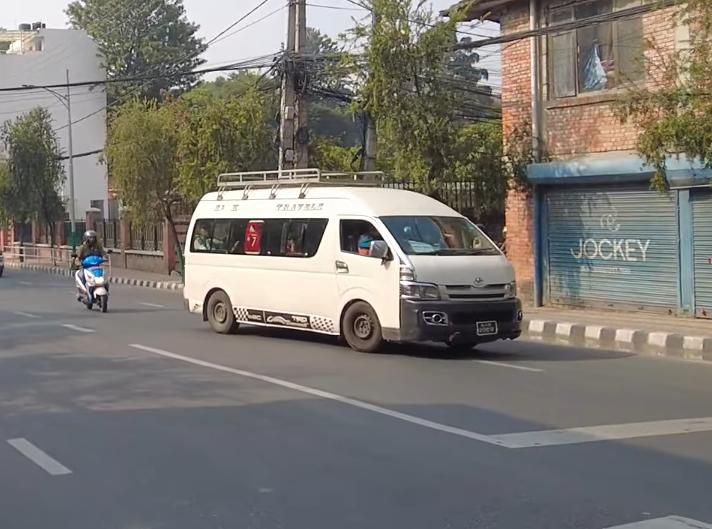micro_bus: (185, 171, 528, 362)
scooter: (72, 248, 113, 314)
